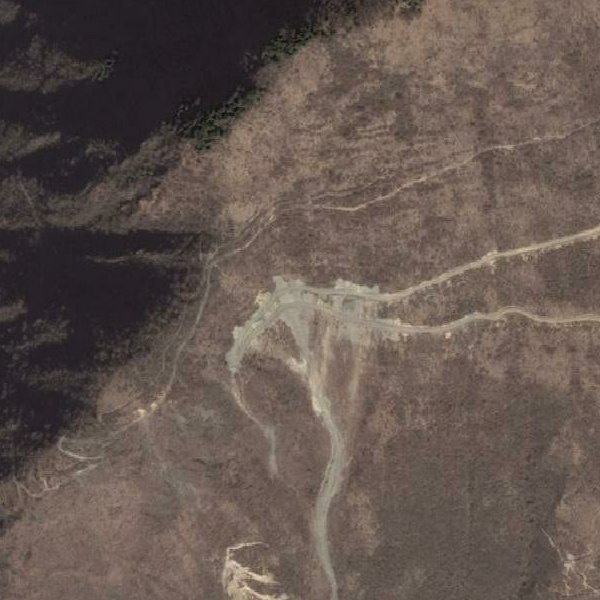slope: (222, 267, 387, 427)
